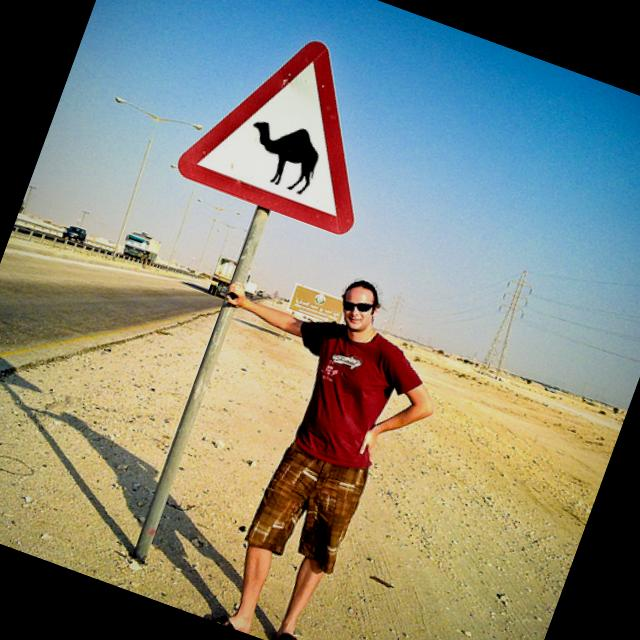Vehicle: (206, 255, 265, 309), (120, 226, 165, 266), (120, 226, 164, 266), (61, 222, 90, 247), (257, 290, 263, 297)
